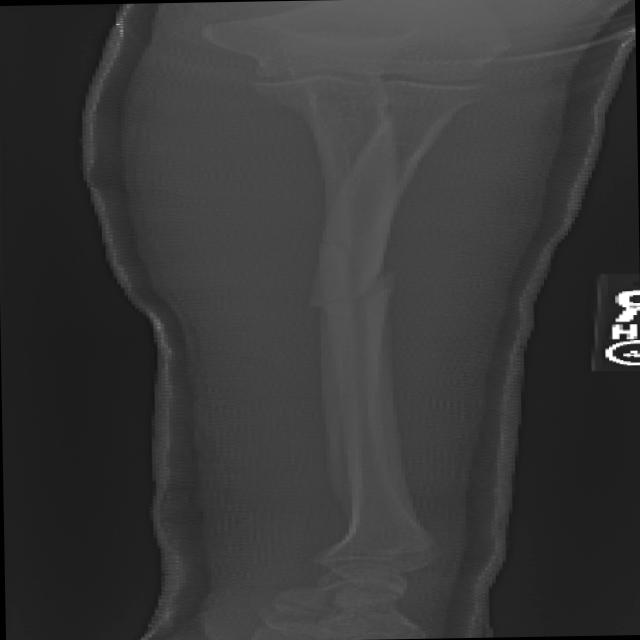forearm fracture: (261, 247, 480, 369)
